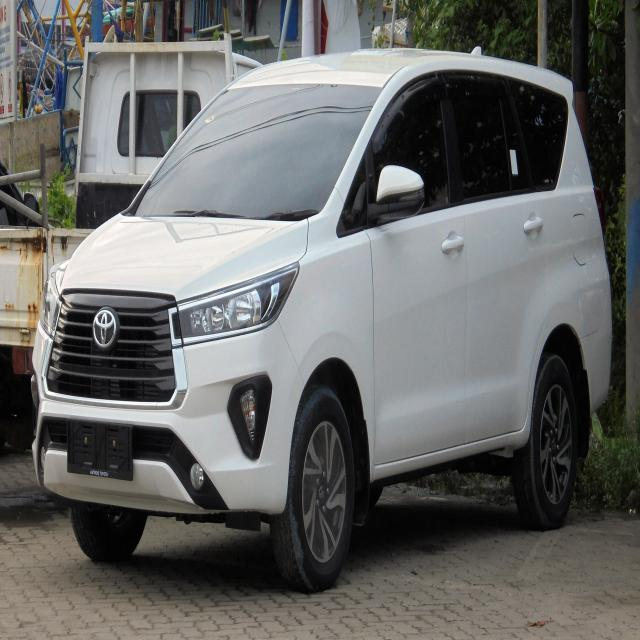light_vehicle: (31, 47, 614, 591)
